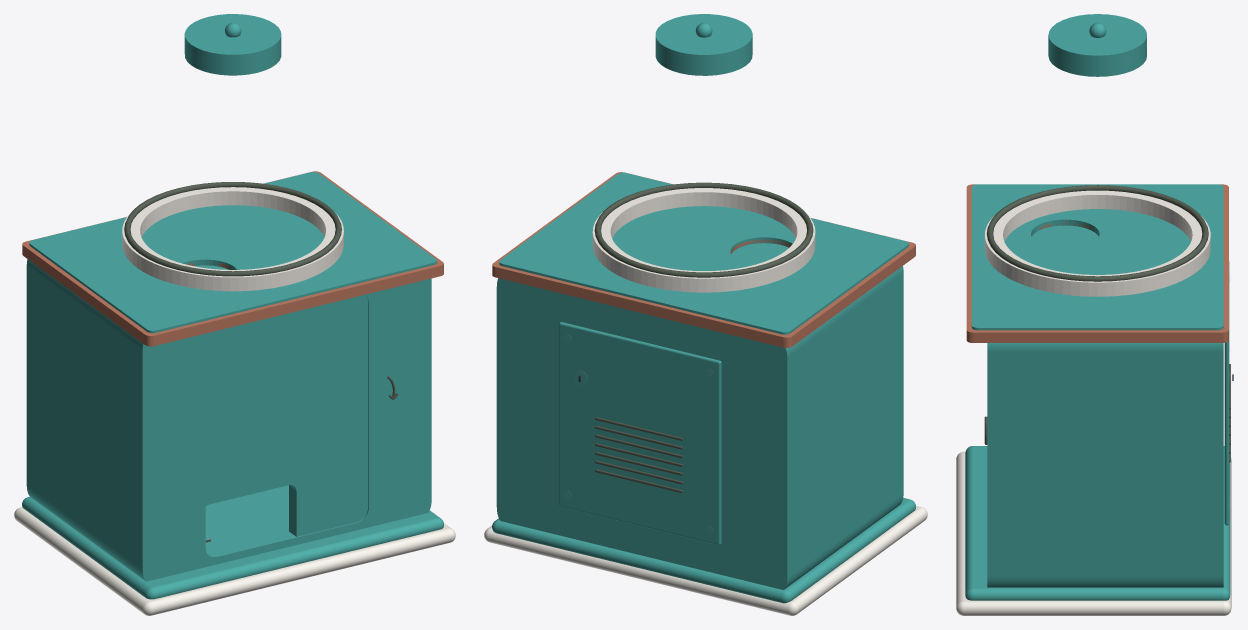
File: machine-garden-study.prefab.glb
3 views of the same model, side by side, from view 1: azimuth 30°, elevation 25°; view 2: azimuth 150°, elevation 25°; view 3: azimuth 270°, elevation 25° (orthographic).
Visible parts, largest first — view 1: CabinetShell_Batch0; view 2: CabinetShell_Batch0; view 3: CabinetShell_Batch0.
Boxes of the visible parts, left/top/right/bottom form: CabinetShell_Batch0: left=14, top=14, right=455, bottom=615; CabinetShell_Batch0: left=484, top=14, right=927, bottom=615; CabinetShell_Batch0: left=956, top=14, right=1233, bottom=615.
Size of what is drawn, in the model's own units: 0.283 by 0.4465 by 0.2137.
Materials: 2 (2 with a texture image).
